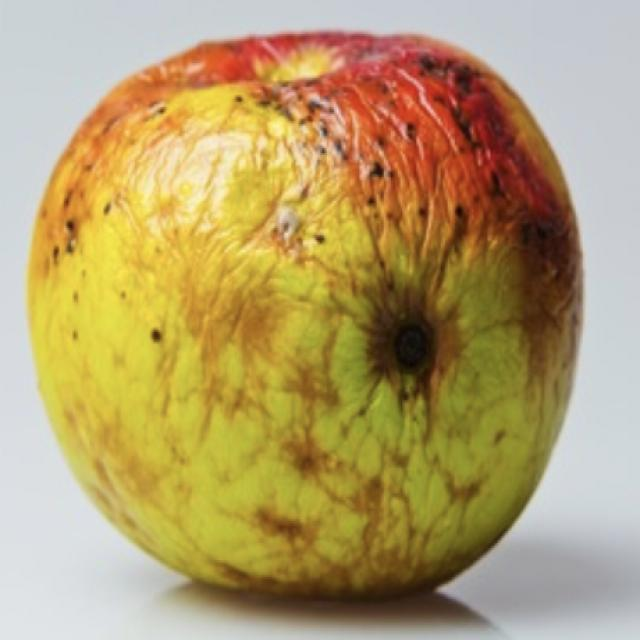Rotten: (28, 28, 587, 600)
